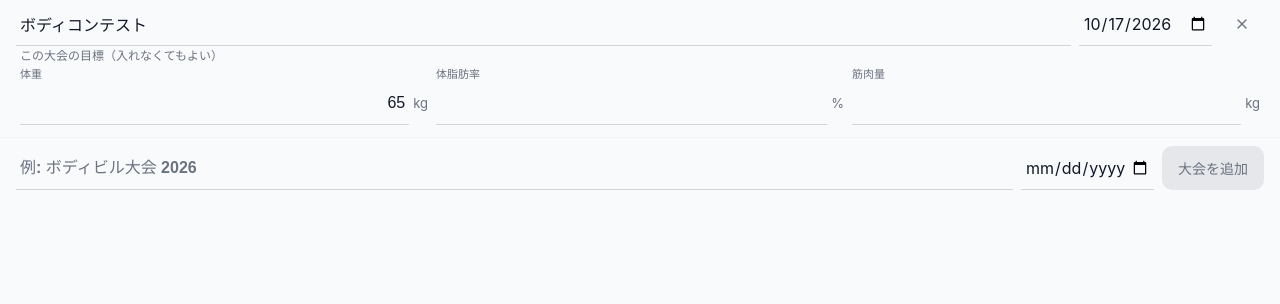
it: ContestEditor — 大会を消す・名前や日付を変える › 大会を新しく追加しても、既存の大会の目標は残り、新しい大会に目標は付かない
Type "新しい大会" into the field named "追加する大会の名前" at (514, 168), box x1=16 y1=146 x2=1013 y2=190
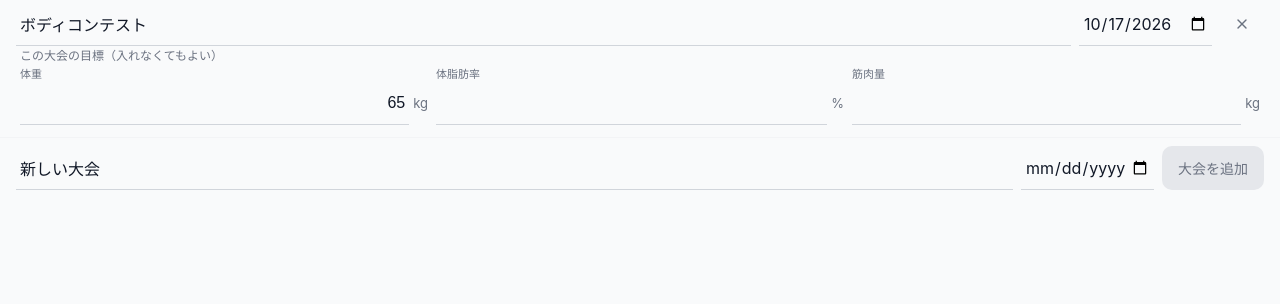
Type "2026-12-24" into the date field named "追加する大会の日付" at (1088, 168), box x1=1021 y1=146 x2=1154 y2=190
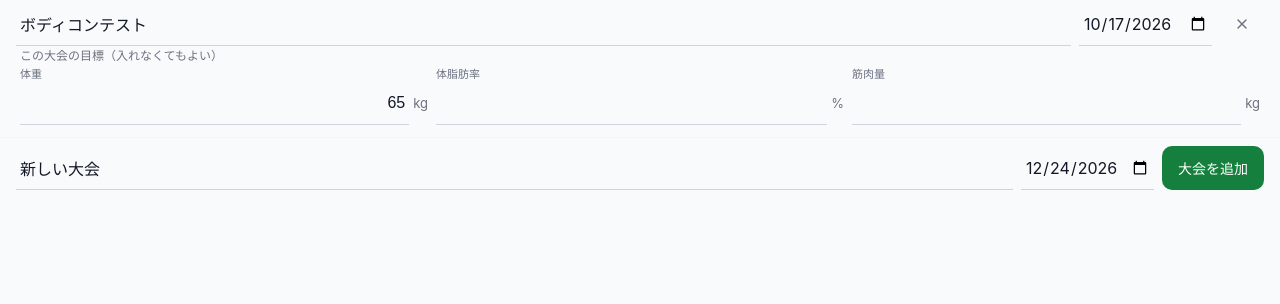
Click the button "大会を追加" at (1213, 168), box x1=1162 y1=146 x2=1264 y2=190
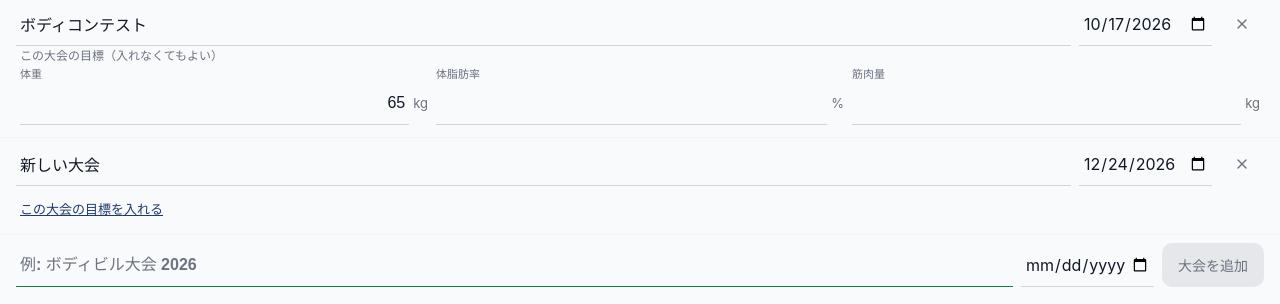
Result: the button named "この大会の目標を入れる（新しい大会）" is shown at x1=16 y1=186 x2=167 y2=230
